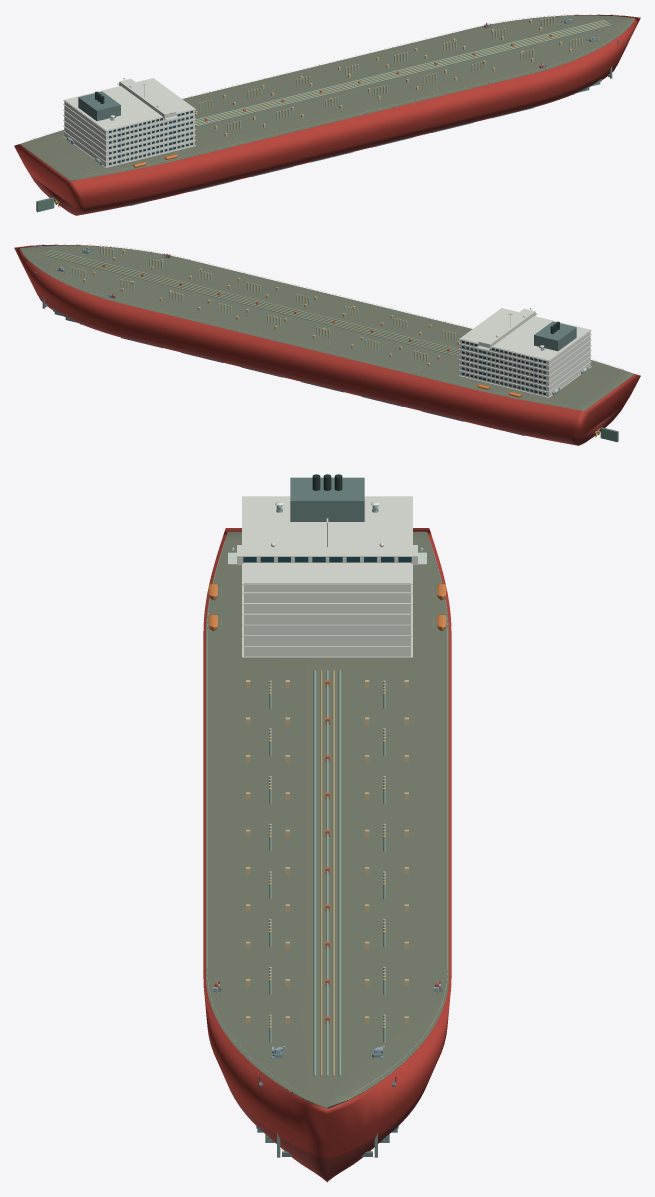
Rendered from dht-bronco.lod1.glb.
The picture shows the model from 3 angles, top to bottom: view 1: azimuth 30°, elevation 25°; view 2: azimuth 150°, elevation 25°; view 3: azimuth 270°, elevation 25°; orthographic projection. The views are drawn at different scales.
Parts seen in each view (by area): view 1: dht-bronco.structure.decks.main-strength-deck.1, dht-bronco.structure.hull.outer-hull-shell.1, dht-bronco.structure.hull.antifouling-underwater-shell.1, dht-bronco.accommodation.superstructure.deck-7-enclosure.1, dht-bronco.propulsion.exhaust.exhaust-casing.1, dht-bronco.cargo.deck-piping.cargo-pipeline-5.1, dht-bronco.cargo.deck-piping.cargo-pipeline-4.1, dht-bronco.cargo.deck-piping.cargo-pipeline-1.1, dht-bronco.cargo.deck-piping.cargo-pipeline-3.1, dht-bronco.cargo.deck-piping.cargo-pipeline-2.1, dht-bronco.navigation.bridge.wheelhouse.1, dht-bronco.accommodation.superstructure.deck-4-enclosure.1 (+5 smaller); view 2: dht-bronco.structure.decks.main-strength-deck.1, dht-bronco.structure.hull.outer-hull-shell.1, dht-bronco.structure.hull.antifouling-underwater-shell.1, dht-bronco.accommodation.superstructure.deck-7-enclosure.1, dht-bronco.propulsion.exhaust.exhaust-casing.1, dht-bronco.cargo.deck-piping.cargo-pipeline-1.1, dht-bronco.cargo.deck-piping.cargo-pipeline-2.1, dht-bronco.cargo.deck-piping.cargo-pipeline-5.1, dht-bronco.cargo.deck-piping.cargo-pipeline-3.1, dht-bronco.cargo.deck-piping.cargo-pipeline-4.1, dht-bronco.navigation.bridge.wheelhouse.1, dht-bronco.accommodation.superstructure.deck-4-enclosure.1 (+5 smaller); view 3: dht-bronco.structure.decks.main-strength-deck.1, dht-bronco.structure.hull.outer-hull-shell.1, dht-bronco.accommodation.superstructure.deck-7-enclosure.1, dht-bronco.propulsion.exhaust.exhaust-casing.1, dht-bronco.navigation.bridge.wheelhouse.1, dht-bronco.structure.hull.antifouling-underwater-shell.1, dht-bronco.accommodation.superstructure.deck-3-enclosure.1, dht-bronco.accommodation.superstructure.deck-1-enclosure.1, dht-bronco.accommodation.superstructure.deck-2-enclosure.1, dht-bronco.accommodation.superstructure.deck-4-enclosure.1, dht-bronco.accommodation.superstructure.deck-5-enclosure.1, dht-bronco.accommodation.superstructure.deck-6-enclosure.1 (+5 smaller).
Boxes of the visible parts, x1,y1,x2,y2 form: dht-bronco.structure.decks.main-strength-deck.1: (20, 15, 634, 181); dht-bronco.structure.hull.outer-hull-shell.1: (14, 14, 640, 208); dht-bronco.structure.hull.antifouling-underwater-shell.1: (31, 60, 619, 215); dht-bronco.accommodation.superstructure.deck-7-enclosure.1: (64, 78, 194, 134); dht-bronco.propulsion.exhaust.exhaust-casing.1: (78, 91, 120, 121); dht-bronco.cargo.deck-piping.cargo-pipeline-5.1: (195, 24, 611, 126); dht-bronco.cargo.deck-piping.cargo-pipeline-4.1: (195, 23, 609, 125); dht-bronco.cargo.deck-piping.cargo-pipeline-1.1: (195, 20, 604, 120); dht-bronco.cargo.deck-piping.cargo-pipeline-3.1: (195, 22, 607, 123); dht-bronco.cargo.deck-piping.cargo-pipeline-2.1: (195, 21, 606, 122); dht-bronco.navigation.bridge.wheelhouse.1: (119, 78, 176, 118); dht-bronco.accommodation.superstructure.deck-4-enclosure.1: (64, 116, 194, 150); dht-bronco.structure.decks.main-strength-deck.1: (20, 245, 634, 411); dht-bronco.structure.hull.outer-hull-shell.1: (14, 244, 640, 438); dht-bronco.structure.hull.antifouling-underwater-shell.1: (35, 290, 623, 445); dht-bronco.accommodation.superstructure.deck-7-enclosure.1: (460, 308, 590, 364); dht-bronco.propulsion.exhaust.exhaust-casing.1: (534, 321, 576, 351); dht-bronco.cargo.deck-piping.cargo-pipeline-1.1: (43, 254, 459, 356); dht-bronco.cargo.deck-piping.cargo-pipeline-2.1: (45, 253, 459, 355); dht-bronco.cargo.deck-piping.cargo-pipeline-5.1: (50, 250, 459, 350); dht-bronco.cargo.deck-piping.cargo-pipeline-3.1: (47, 252, 459, 353); dht-bronco.cargo.deck-piping.cargo-pipeline-4.1: (48, 251, 459, 352); dht-bronco.navigation.bridge.wheelhouse.1: (478, 308, 535, 348); dht-bronco.accommodation.superstructure.deck-4-enclosure.1: (460, 346, 590, 380); dht-bronco.structure.decks.main-strength-deck.1: (206, 531, 448, 1108); dht-bronco.structure.hull.outer-hull-shell.1: (203, 528, 451, 1159); dht-bronco.accommodation.superstructure.deck-7-enclosure.1: (244, 496, 410, 592); dht-bronco.propulsion.exhaust.exhaust-casing.1: (290, 477, 364, 521); dht-bronco.navigation.bridge.wheelhouse.1: (237, 545, 417, 565); dht-bronco.structure.hull.antifouling-underwater-shell.1: (226, 1081, 428, 1182); dht-bronco.accommodation.superstructure.deck-3-enclosure.1: (244, 625, 410, 635); dht-bronco.accommodation.superstructure.deck-1-enclosure.1: (244, 647, 410, 656); dht-bronco.accommodation.superstructure.deck-2-enclosure.1: (244, 636, 410, 645); dht-bronco.accommodation.superstructure.deck-4-enclosure.1: (244, 615, 410, 624); dht-bronco.accommodation.superstructure.deck-5-enclosure.1: (244, 604, 410, 613); dht-bronco.accommodation.superstructure.deck-6-enclosure.1: (244, 593, 410, 602).
Bounding box in the file's own units: 337 × 54.58 × 60.
